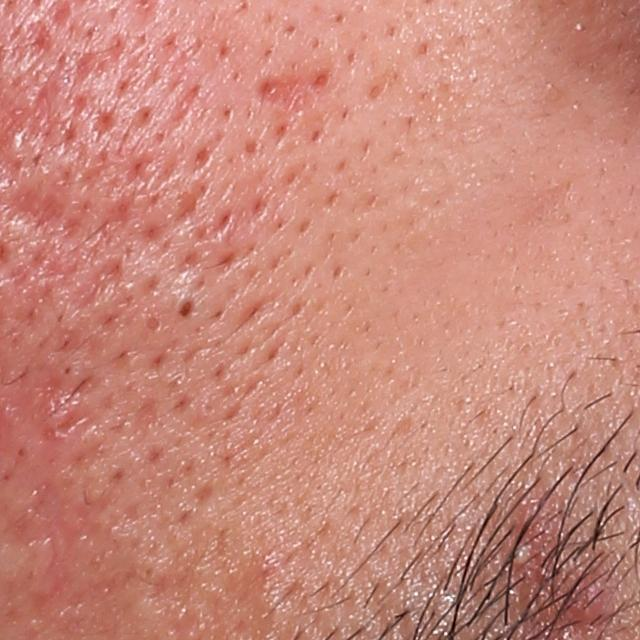atrophic_scar: (3, 188, 94, 255), (69, 254, 128, 317), (255, 75, 316, 119), (91, 191, 136, 244), (73, 37, 125, 79)
comedo: (173, 292, 206, 323)
papule: (563, 567, 611, 628)
pustule: (490, 509, 549, 602)
